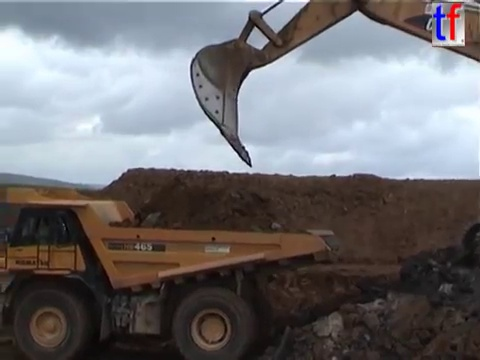excavator: (185, 1, 480, 262)
truck: (1, 181, 343, 360)
